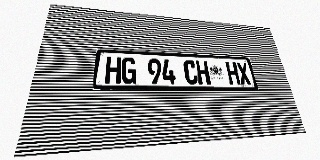4: (161, 59, 176, 84)
9: (147, 58, 162, 84)
C: (183, 60, 198, 84)
G: (121, 57, 136, 84)
H: (105, 56, 121, 84), (195, 61, 211, 84), (225, 62, 241, 85)
X: (236, 62, 252, 85)
